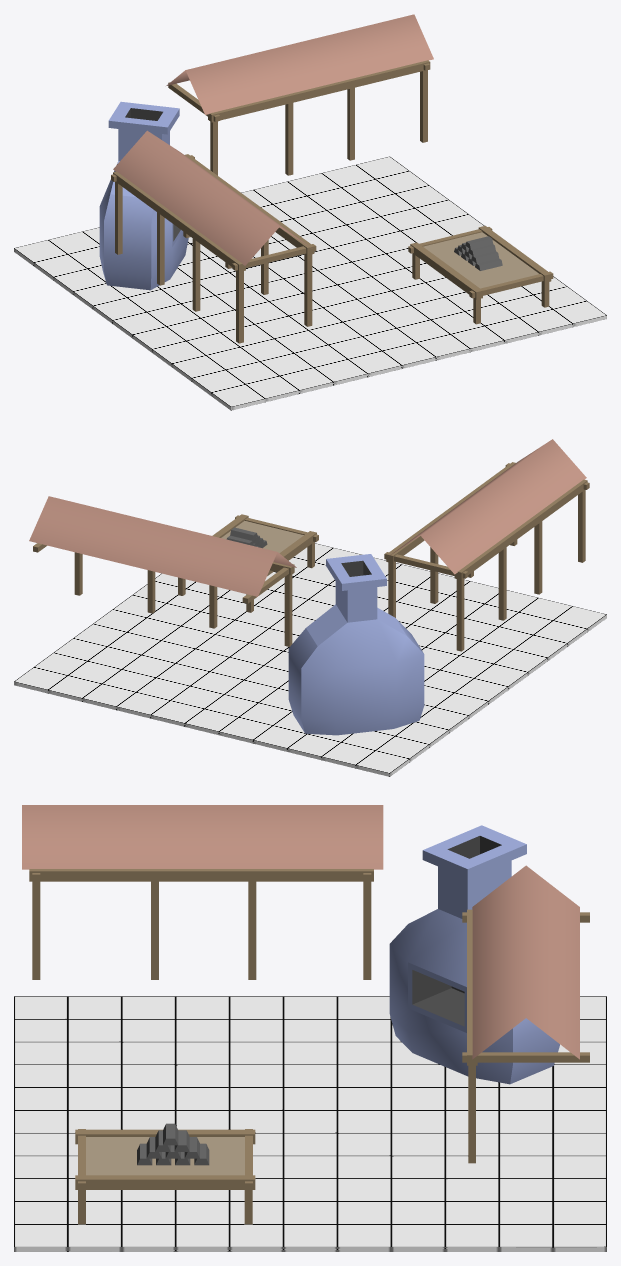
File: XG_Blacksmith.glb
3 views of the same model, one above another, from view 1: azimuth 30°, elevation 25°; view 2: azimuth 150°, elevation 25°; view 3: azimuth 270°, elevation 25° (orthographic). The views are drawn at different scales.
Visible parts, largest first — view 1: ground_11_x_11_025, Plane034, Plane036, Box793, Plane035, Box752, Box764, Box782, Box781, Box783, Box756, Box786 (+7 smaller); view 2: ground_11_x_11_025, Box793, Plane034, Plane036, Box782, Plane035, Box781, Box764, Box790, Box754, Box786, Box788 (+2 smaller); view 3: ground_11_x_11_025, Plane036, Box793, Plane034, Plane035, Box781, Box764, Box763, Box752, Box783, Box787, Box789 (+2 smaller).
Part boxes in pixels (bbox=[...]): ground_11_x_11_025: bbox=[14, 156, 606, 410]; Plane034: bbox=[166, 14, 433, 114]; Plane036: bbox=[113, 130, 310, 265]; Box793: bbox=[99, 101, 188, 290]; Plane035: bbox=[423, 232, 538, 288]; Box752: bbox=[208, 60, 430, 122]; Box764: bbox=[410, 225, 551, 299]; Box782: bbox=[113, 171, 245, 271]; Box781: bbox=[185, 154, 314, 255]; Box783: bbox=[304, 254, 312, 326]; Box756: bbox=[285, 103, 293, 175]; Box786: bbox=[192, 238, 200, 311]; ground_11_x_11_025: bbox=[14, 543, 606, 776]; Box793: bbox=[288, 554, 424, 735]; Plane034: bbox=[29, 496, 296, 596]; Plane036: bbox=[388, 439, 586, 574]; Box782: bbox=[454, 479, 587, 579]; Plane035: bbox=[221, 521, 303, 552]; Box781: bbox=[386, 462, 515, 563]; Box764: bbox=[212, 514, 316, 576]; Box790: bbox=[456, 578, 464, 651]; Box754: bbox=[284, 575, 292, 646]; Box786: bbox=[534, 521, 542, 594]; Box788: bbox=[498, 547, 506, 620]; ground_11_x_11_025: bbox=[14, 996, 606, 1251]; Plane036: bbox=[22, 805, 383, 869]; Box793: bbox=[389, 825, 559, 1084]; Plane034: bbox=[472, 865, 579, 1059]; Plane035: bbox=[86, 1137, 244, 1175]; Box781: bbox=[29, 869, 373, 881]; Box764: bbox=[75, 1129, 255, 1189]; Box763: bbox=[462, 1052, 589, 1062]; Box752: bbox=[467, 909, 477, 1065]; Box783: bbox=[32, 881, 40, 979]; Box787: bbox=[248, 881, 256, 979]; Box789: bbox=[363, 881, 371, 979].
Size of the model in its own units: 11 by 4.72 by 11.
Materials: 7 (1 with a texture image).
